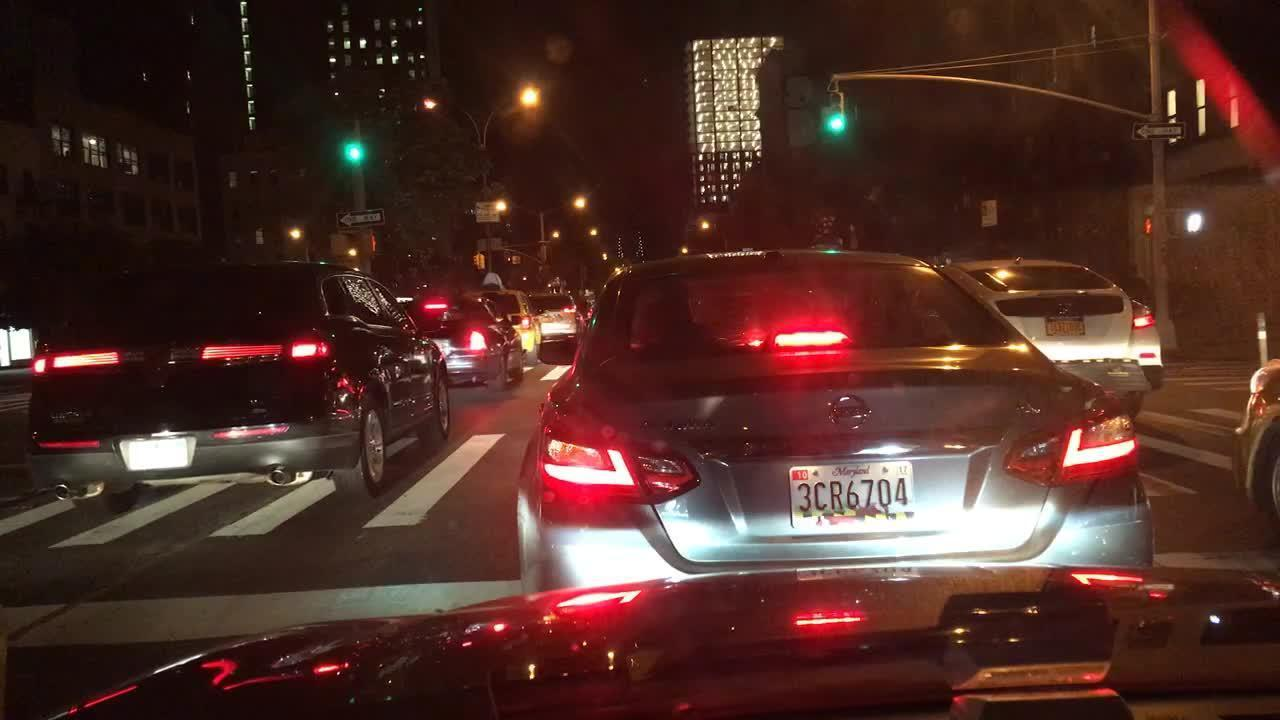Nissan: (824, 393, 881, 435)
